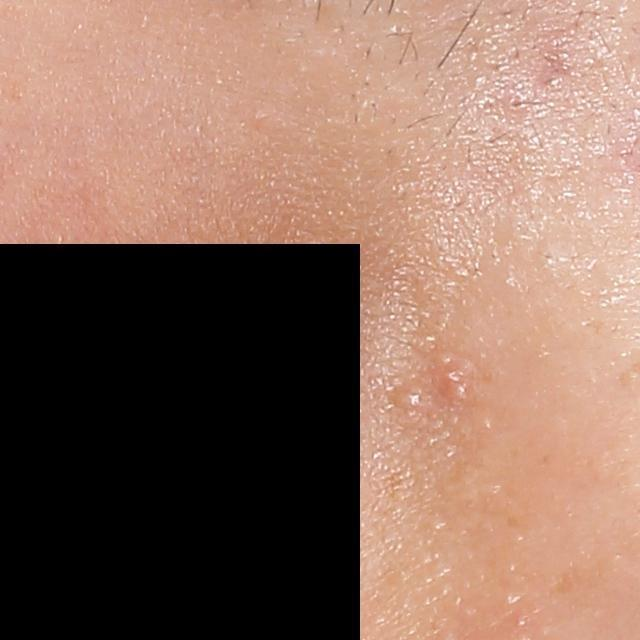comedo: (390, 388, 423, 415)
